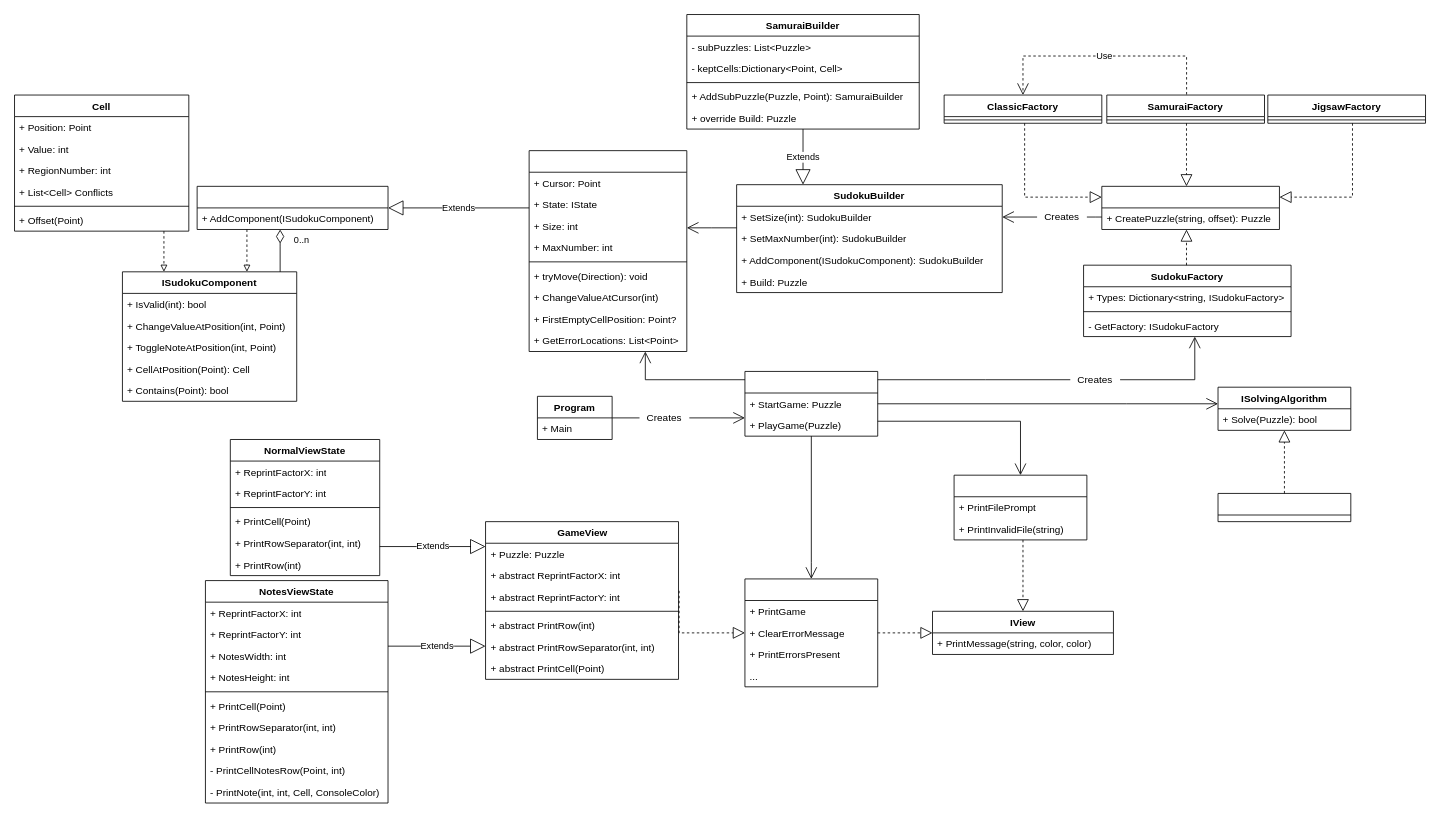
This 1440x820 diagram has some shape labels left out. Each missing label, with the box of its shape:
BacktrackAlgorithm: (1217, 493, 1351, 522)
Composite: (196, 186, 388, 229)
InputHandler: (744, 371, 878, 436)
ISudokuFactory: (1101, 186, 1279, 229)
IViewState: (744, 578, 878, 687)
MainView: (953, 474, 1087, 540)
Puzzle: (528, 150, 687, 352)
